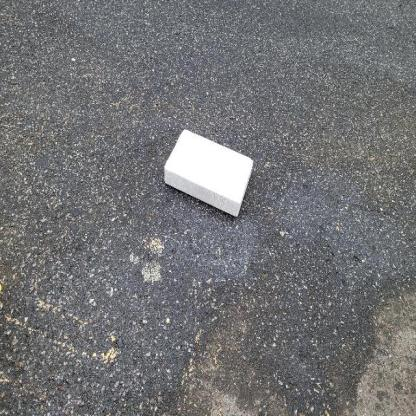Glass Cup: (163, 129, 254, 216), (164, 129, 253, 216)
